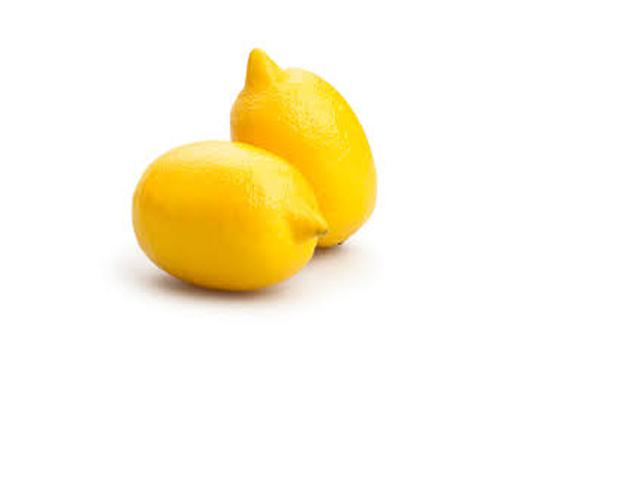lemon: (122, 122, 326, 312)
